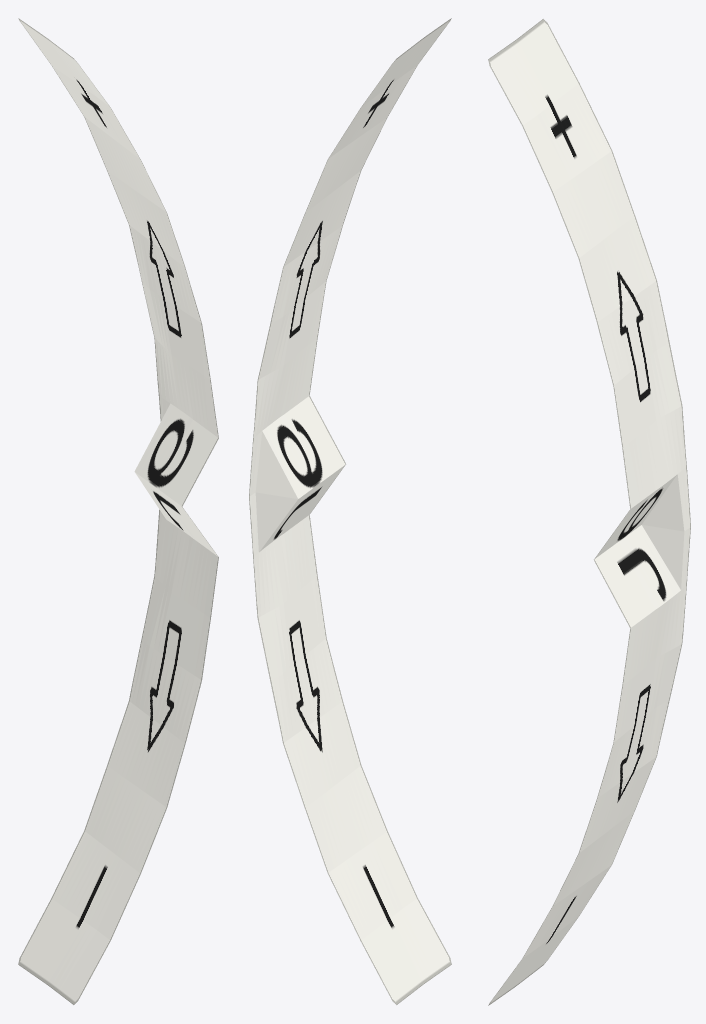
The model's file is J6_sticker.glb.
3 renders of one model, left to right at view 1: azimuth 30°, elevation 25°; view 2: azimuth 150°, elevation 25°; view 3: azimuth 330°, elevation 25°, orthographic.
Bounding box in the file's own units: 0.00569 × 0.035 × 0.004.
Materials: 1 (1 with a texture image).
